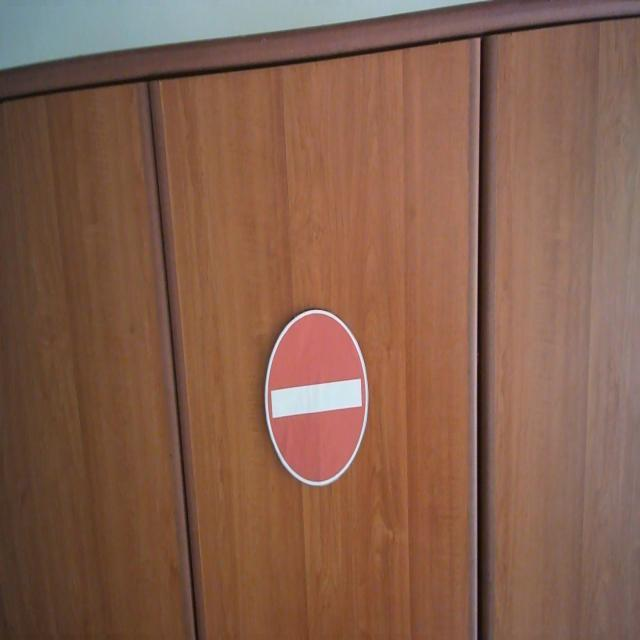no_entry: (263, 308, 370, 491)
